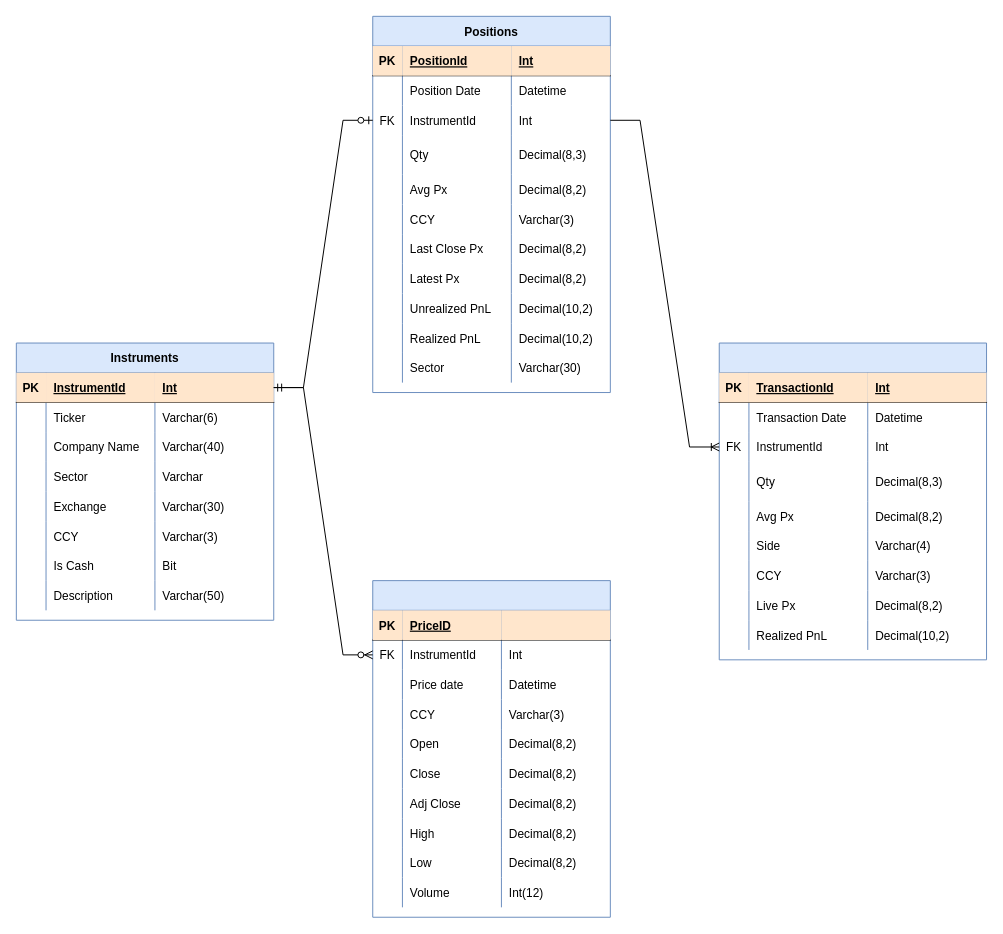
This 1003x934 diagram has some shape labels left out. Each missing label, with the box of its shape:
Daily Prices: (372, 580, 610, 917)
Transactions: (718, 342, 987, 660)
